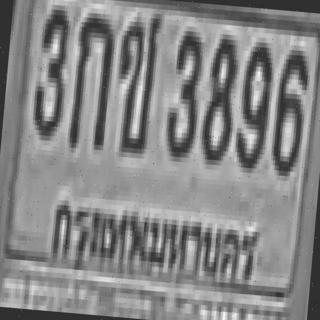A01: (67, 7, 115, 146)
A10: (110, 6, 162, 154)
N03: (29, 0, 70, 136), (162, 25, 202, 158)
N06: (270, 44, 308, 172)
N08: (198, 28, 239, 161)
N09: (232, 36, 274, 169)
P04: (42, 186, 265, 300)
